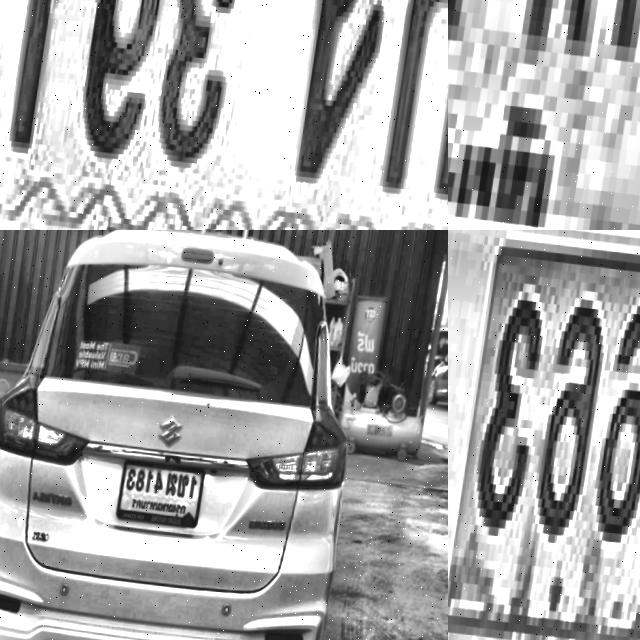license-plate: (0, 0, 448, 230), (448, 230, 640, 640), (448, 0, 640, 230), (120, 452, 212, 525)
